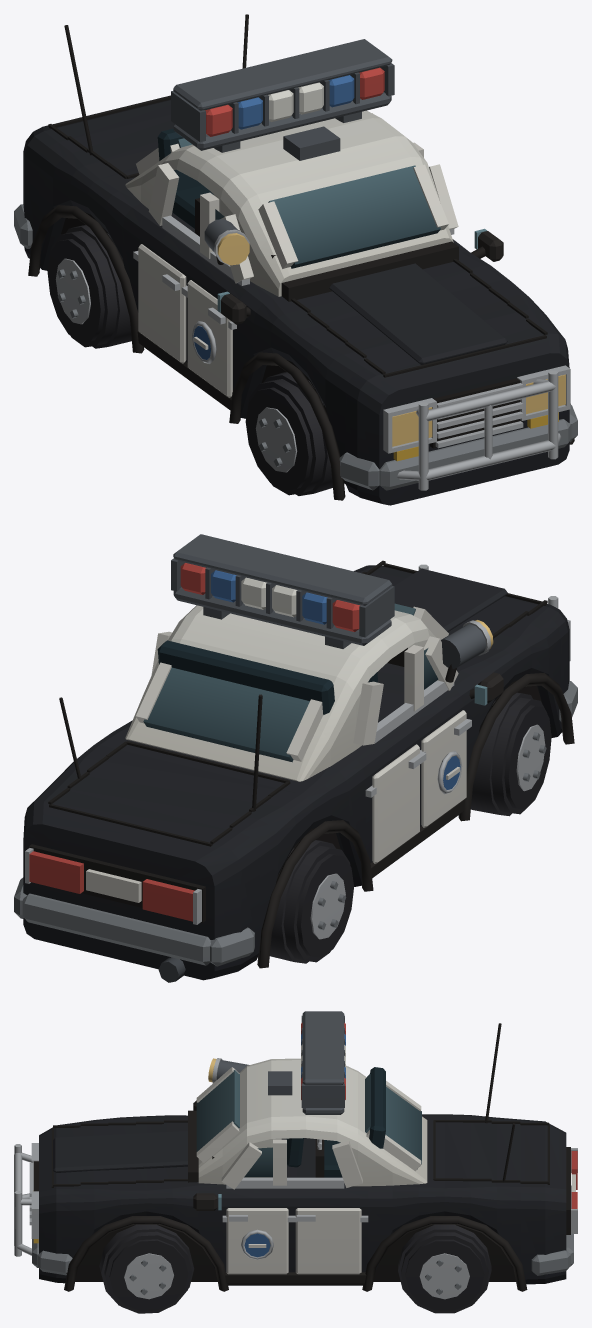
Rendered from police_cruiser.glb.
The picture shows the model from 3 angles, top to bottom: view 1: azimuth 30°, elevation 25°; view 2: azimuth 150°, elevation 25°; view 3: azimuth 270°, elevation 25°; orthographic projection. The views are drawn at different scales.
Visible parts, largest first — view 1: police_cruiser; view 2: police_cruiser; view 3: police_cruiser.
Part boxes in pixels (bbox=[...]): police_cruiser: bbox=[14, 14, 577, 505]; police_cruiser: bbox=[14, 534, 577, 982]; police_cruiser: bbox=[14, 1011, 577, 1313].
Bounding box in the file's own units: 1.21 × 1.3 × 2.93.
